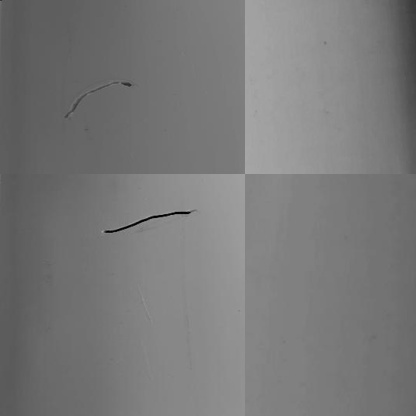fengxi: (64, 77, 132, 116), (101, 208, 194, 235)
